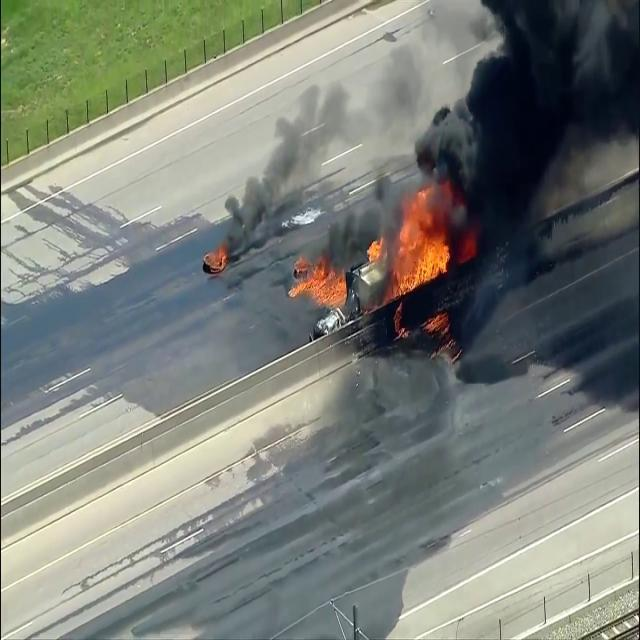Fire: (373, 194, 458, 328), (288, 250, 350, 315)
Smoke: (426, 0, 640, 265), (222, 42, 428, 244)
